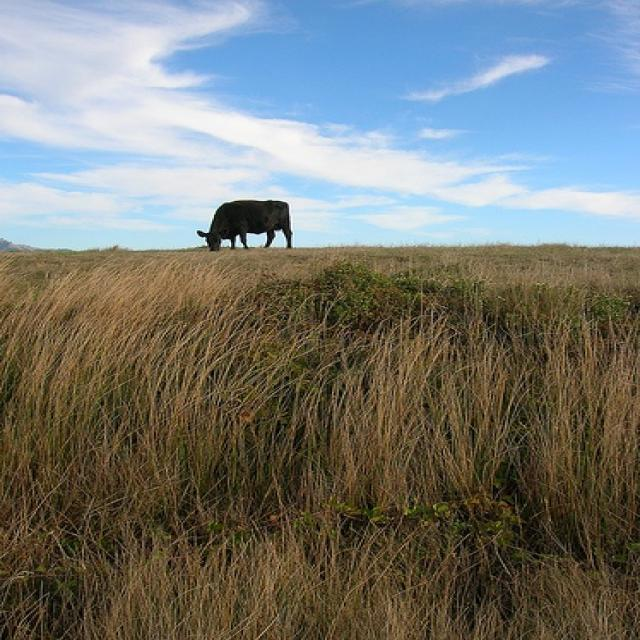cow: (193, 197, 296, 254)
